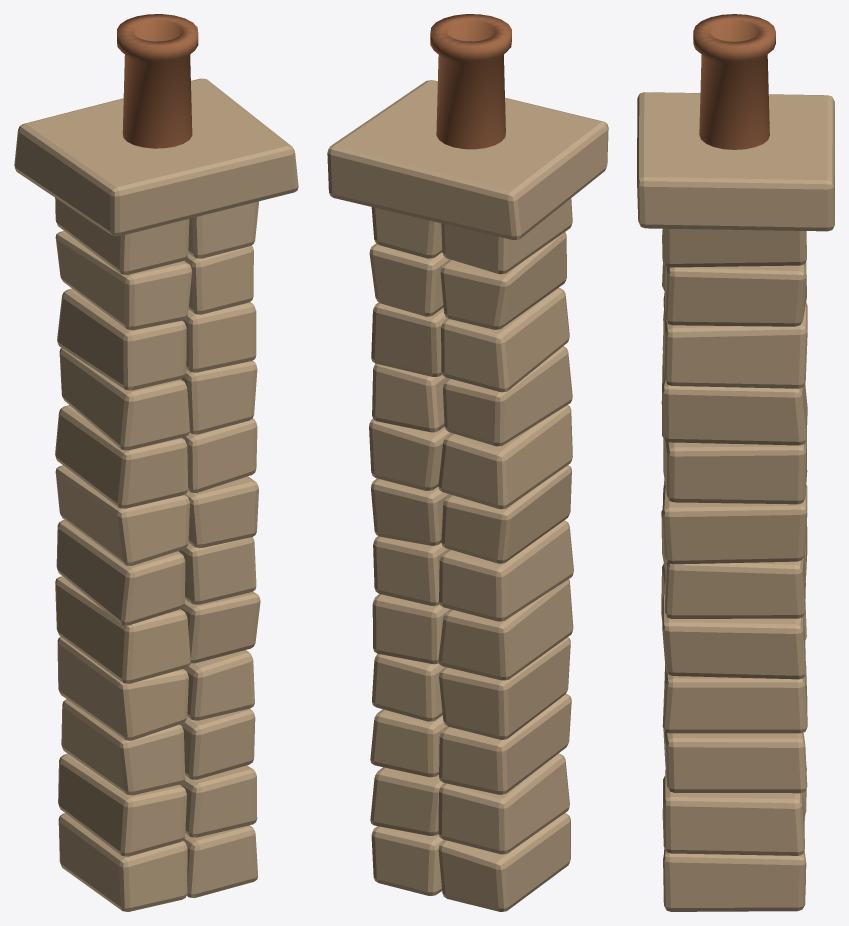
The model's file is Chimney.glb.
3 views of the same model, side by side, from view 1: azimuth 30°, elevation 25°; view 2: azimuth 150°, elevation 25°; view 3: azimuth 270°, elevation 25° (orthographic).
Parts seen in each view (by area): view 1: Chimney brick, Clay pot; view 2: Chimney brick, Clay pot; view 3: Chimney brick, Clay pot.
Boxes of the visible parts, left/top/right/bottom form: Chimney brick: left=14, top=78, right=298, bottom=911; Clay pot: left=117, top=14, right=198, bottom=148; Chimney brick: left=327, top=80, right=608, bottom=911; Clay pot: left=430, top=14, right=511, bottom=149; Chimney brick: left=637, top=92, right=834, bottom=911; Clay pot: left=693, top=14, right=775, bottom=149.
Bounding box in the file's own units: 0.8959 × 3.74 × 0.7886.
